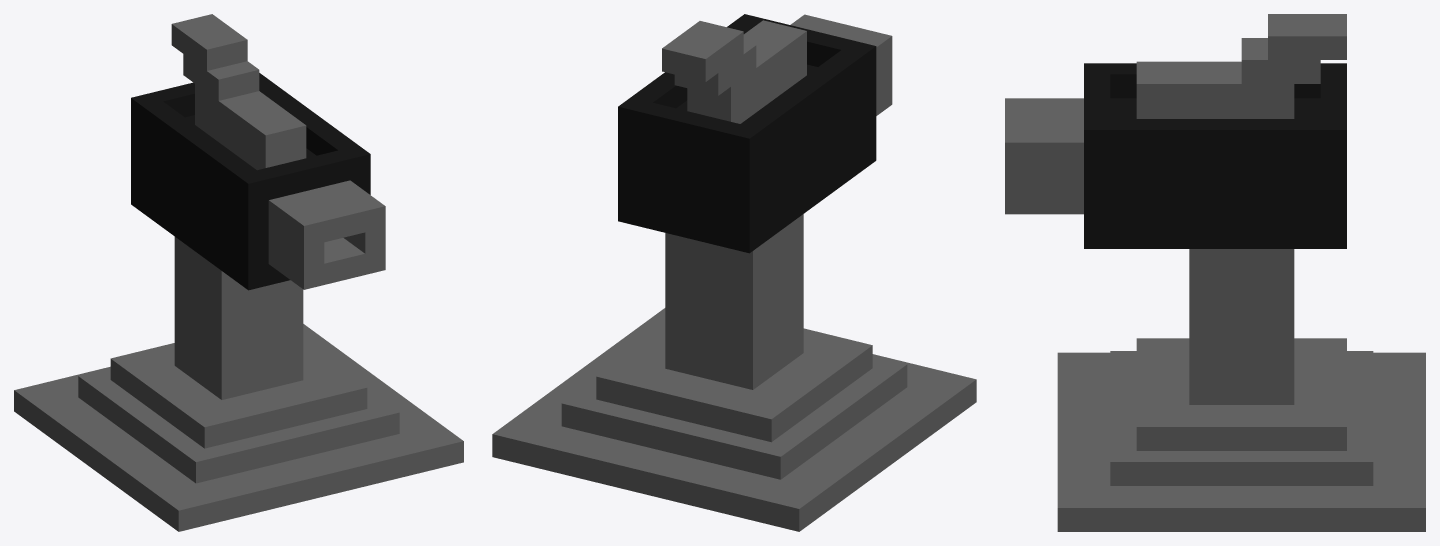
The model's file is PiercingCannon.obj.
3 renders of one model, left to right at view 1: azimuth 30°, elevation 25°; view 2: azimuth 150°, elevation 25°; view 3: azimuth 270°, elevation 25°, orthographic. The views are drawn at different scales.
Size of the model in its own units: 1.4 by 1.8 by 1.6.
1 material, 1 textured.
